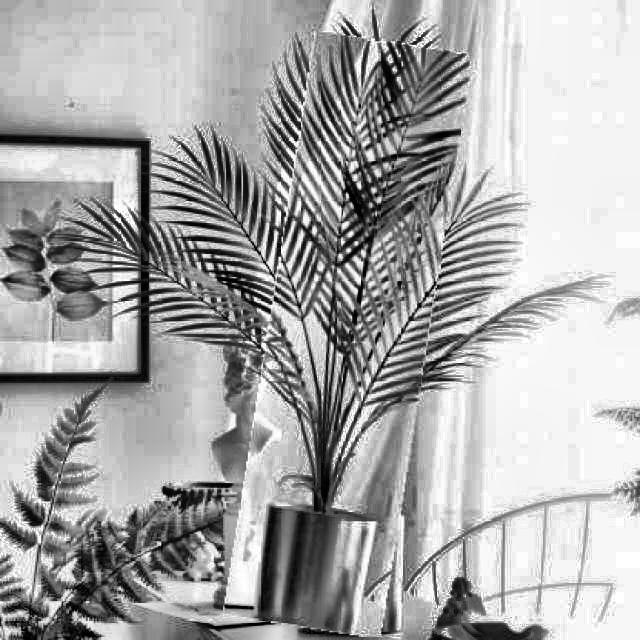plants: (246, 36, 448, 635)
